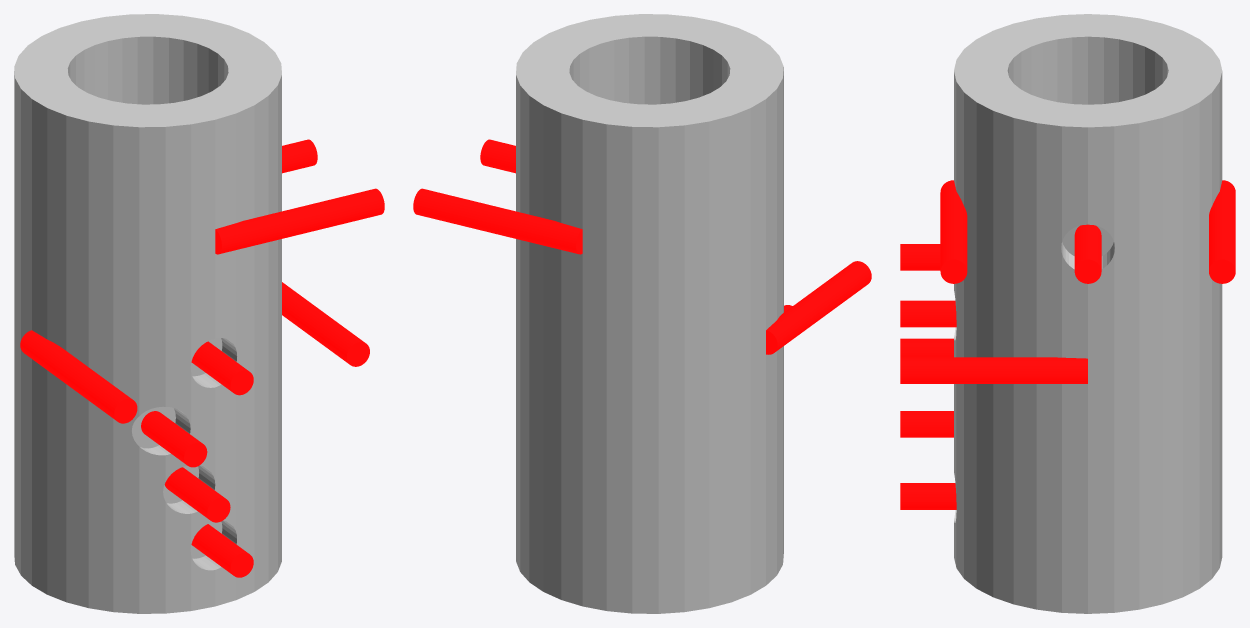
Rendered from LOT123_7a496a2c.glb.
3 views of the same model, side by side, from view 1: azimuth 30°, elevation 25°; view 2: azimuth 150°, elevation 25°; view 3: azimuth 270°, elevation 25° (orthographic).
Visible parts, largest first — view 1: Cylinder, Cylinder.015, Cylinder.009, Cylinder.011, Cylinder.007, Cylinder.005, Cylinder.013, Cylinder.003, Cylinder.019; view 2: Cylinder, Cylinder.017, Cylinder.009, Cylinder.019; view 3: Cylinder, Cylinder.011, Cylinder.015, Cylinder.017, Cylinder.013, Cylinder.019, Cylinder.003, Cylinder.005, Cylinder.009, Cylinder.007.
Boxes of the visible parts, x1,y1,x2,y2 form: Cylinder: (14, 14, 281, 613); Cylinder.015: (215, 188, 384, 254); Cylinder.009: (20, 330, 137, 423); Cylinder.011: (282, 282, 369, 366); Cylinder.007: (141, 411, 207, 467); Cylinder.005: (164, 467, 230, 522); Cylinder.013: (191, 341, 253, 395); Cylinder.003: (191, 524, 253, 577); Cylinder.019: (282, 139, 317, 173); Cylinder: (516, 14, 783, 613); Cylinder.017: (413, 188, 582, 254); Cylinder.009: (766, 261, 871, 354); Cylinder.019: (480, 139, 515, 173); Cylinder: (954, 14, 1222, 613); Cylinder.011: (900, 357, 1087, 383); Cylinder.015: (940, 180, 967, 283); Cylinder.017: (1209, 180, 1235, 283); Cylinder.013: (900, 300, 956, 327); Cylinder.019: (1074, 224, 1101, 283); Cylinder.003: (900, 483, 956, 509); Cylinder.005: (900, 411, 953, 437); Cylinder.009: (900, 244, 940, 270); Cylinder.007: (900, 338, 953, 357).
Bounding box in the file's own units: 1.25 × 2 × 1.25.
